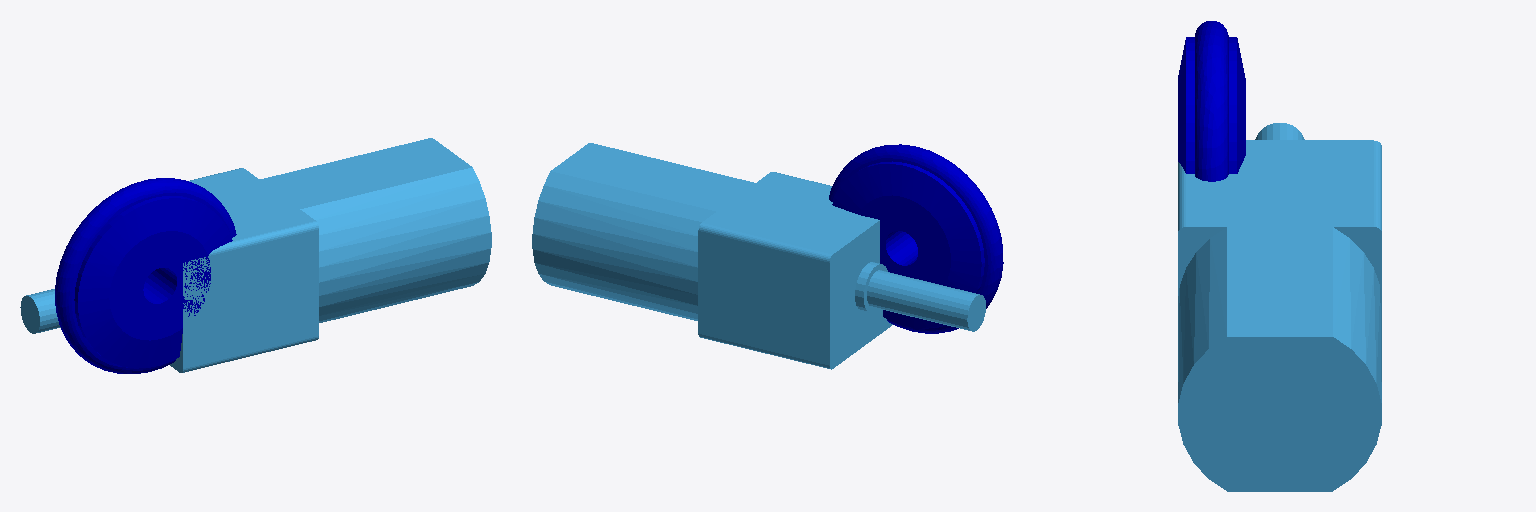
robot.urdf — wheel_with_motor:
<robot name="wheel_with_motor">

  <!-- Materials -->
  <material name="blue">
    <color rgba = "0 0 0.8 1"/>
  </material>

  <!-- Links -->
  <link name="wheel">
    <visual>
      <origin rpy="0.0 0 0" xyz="0 0 0"/>
      <geometry>
        <mesh filename="wheel.stl" scale="1.00 1.00 1.00"/>
      </geometry>
      <material name="blue"/>
    </visual>
    <collision>
      <origin rpy="0.0 0 0" xyz="0 0 0"/>
      <geometry>
        <mesh filename="wheel.stl" scale="1.00 1.00 1.00"/>
      </geometry>
    </collision>
  </link>

  <link name="motor">
    <visual>
      <origin rpy="0.0 0 0" xyz="0 0 0"/>
      <geometry>
        <mesh filename="motor.stl" scale="1.00 1.00 1.00"/>
      </geometry>
    </visual>
    <collision>
      <origin rpy="0.0 0 0" xyz="0 0 0"/>
      <geometry>
        <mesh filename="motor.stl" scale="1.00 1.00 1.00"/>
      </geometry>
    </collision>
  </link>

  <!-- Joints -->
  <joint name="joint1" type="continuous">
    <parent link="wheel"/>
    <child link="motor"/>
    <origin rpy="0 0 0" xyz="0 0 0"/>
  </joint>

</robot>

--- Render facts (derived) ---
The picture shows the robot from 3 angles, left to right: view 1: azimuth 30°, elevation 25°; view 2: azimuth 150°, elevation 25°; view 3: azimuth 270°, elevation 25°; orthographic projection.
Robot: wheel_with_motor — 2 links, 1 joints (1 continuous); root link wheel; default pose: all joints at 0.
Links seen in each view (by area): view 1: motor, wheel; view 2: motor, wheel; view 3: motor, wheel.
Link boxes in pixels (<box>): motor: <box>20,138,491,372</box>; wheel: <box>55,178,236,373</box>; motor: <box>532,143,985,369</box>; wheel: <box>829,144,1003,333</box>; motor: <box>1178,123,1381,491</box>; wheel: <box>1178,21,1245,181</box>.
Size in the robot's own frame: 37.2 by 12 by 15.99 metres.
Meshes: 2 distinct files referenced, 2 mesh visuals loaded (2 binary STL).
